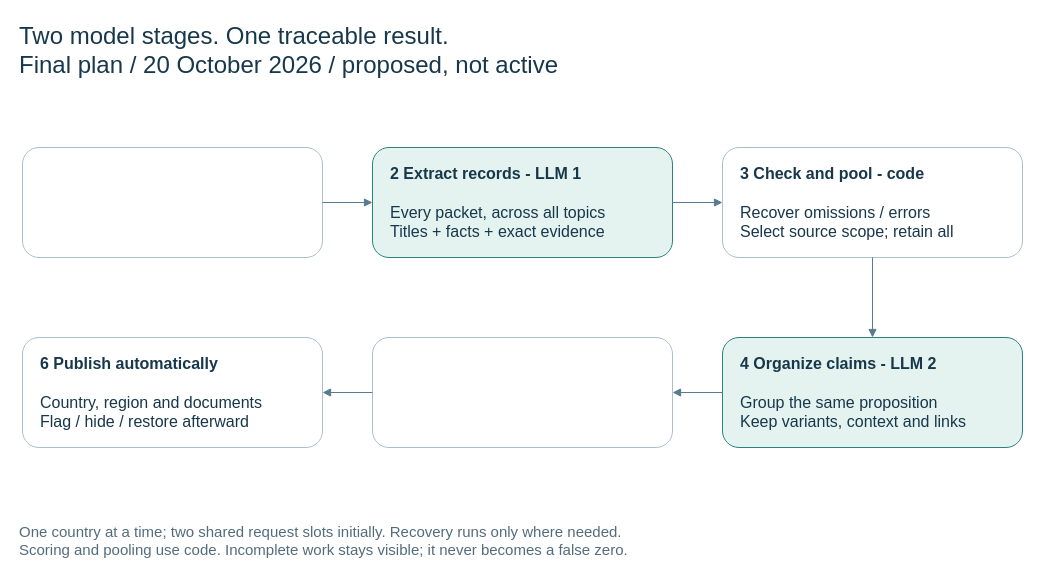
This 1044x587 diagram has some shape labels left out. The shapes that lost their labels are listed below. From the top down, each one's box as (x1, y1, x2, y2) in pixels, then its label:
(22, 146, 322, 258): 1 Prepare every source Text + layout + targeted OCR Conditional image recovery
(372, 336, 672, 448): 5 Calculate scores - code Four checks per response Topic means + distinct counts
